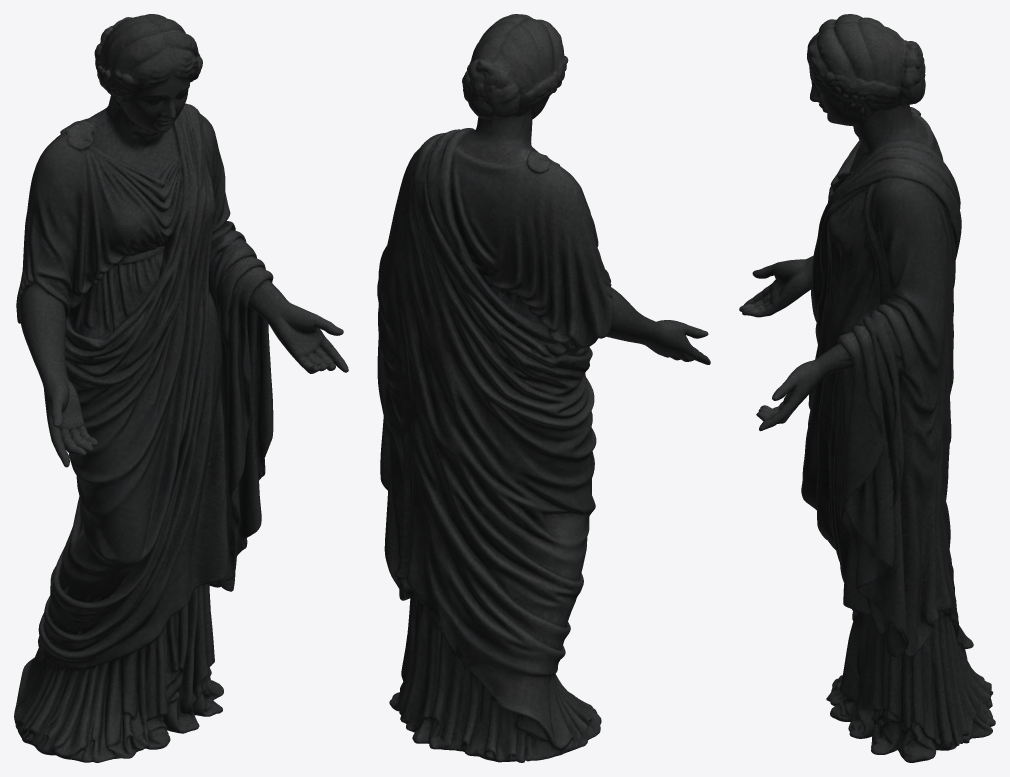
File: mother-teresa.glb
The picture shows the model from 3 angles, left to right: view 1: azimuth 30°, elevation 25°; view 2: azimuth 150°, elevation 25°; view 3: azimuth 270°, elevation 25°; orthographic projection. The views are drawn at different scales.
Bounding box in the file's own units: 0.8285 × 1.9 × 0.636.
Materials: 1 (1 with a texture image).
